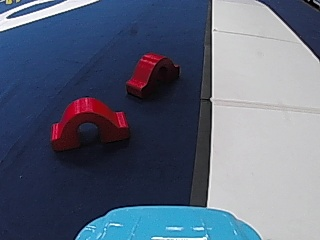bridge: (45, 93, 132, 150), (125, 51, 179, 100)
